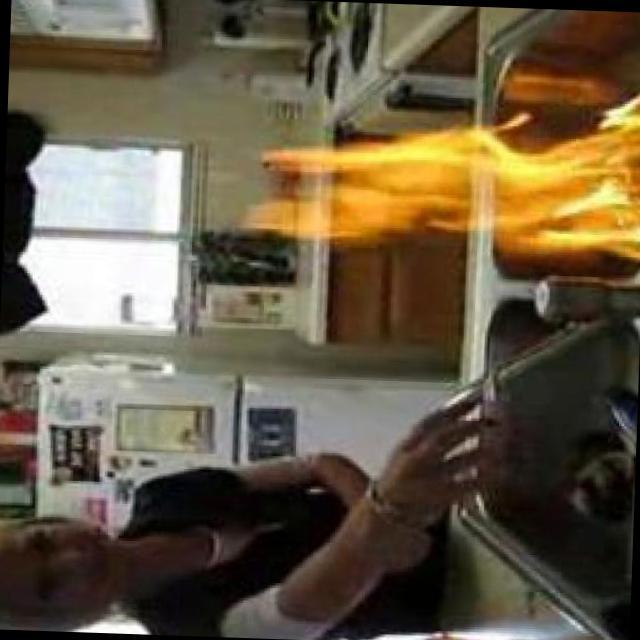Fire: (245, 107, 640, 261)
